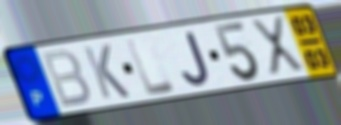5: (211, 19, 262, 84)
B: (39, 47, 93, 110)
J: (179, 29, 212, 88)
K: (80, 43, 133, 101)
L: (124, 35, 179, 98)
X: (248, 13, 309, 77)
